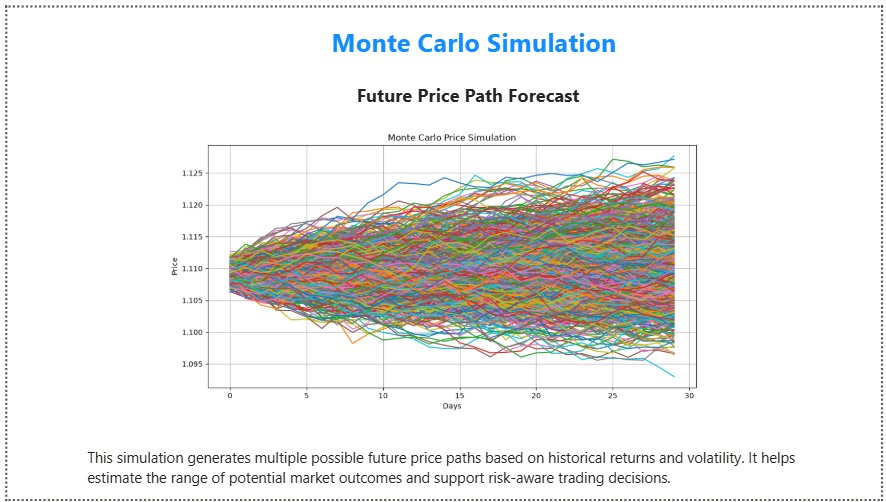

This screenshot's page, from the dashboard's own definition file:
{"tool":"powerbi","page":{"name":"Monte Carlo Simulation","canvas":[1280,720],"ordinal":3},"visuals":[{"type":"image","box":[0,146.7,1280,461.7],"z":0},{"type":"textbox","box":[470,20,445,155],"z":1000},{"type":"textbox","box":[112,640,1096,80],"z":2000}]}

Visuals, with their boxes in screenshot pixels (x1, y1, x2, y2), scaled from the page's 1280x720 canvas onto the 886x502 screenshot:
image: rect(0, 102, 885, 424)
textbox: rect(325, 14, 633, 122)
textbox: rect(78, 446, 836, 501)
